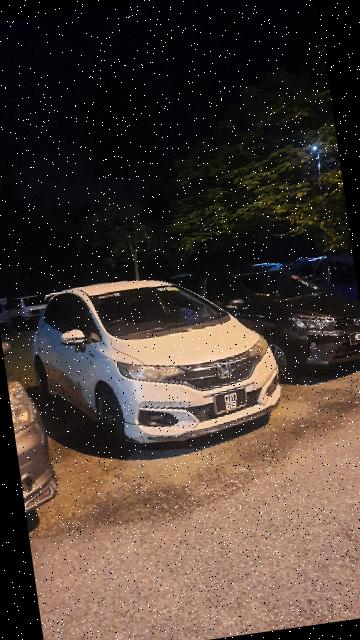License_Plate: (208, 382, 253, 417)
car: (24, 259, 291, 467)
